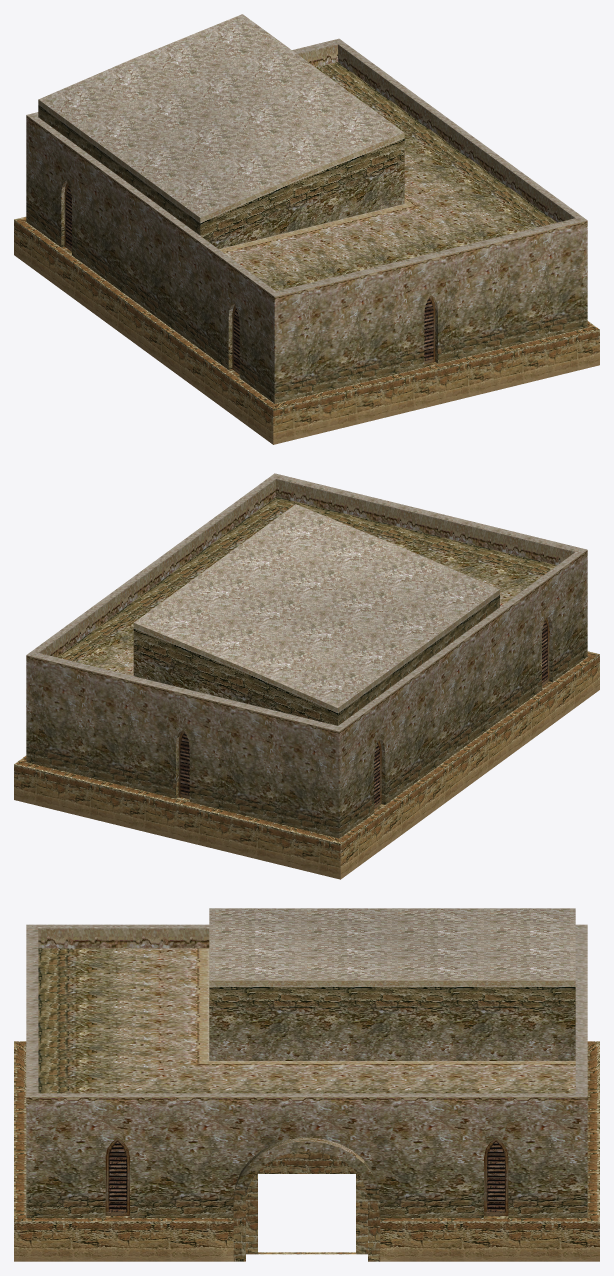
The model's file is M1Z1A_Village4_Ext.glb.
The picture shows the model from 3 angles, top to bottom: view 1: azimuth 30°, elevation 25°; view 2: azimuth 150°, elevation 25°; view 3: azimuth 270°, elevation 25°; orthographic projection. The views are drawn at different scales.
Visible parts, largest first — view 1: M1Z1A_VILLAGE4_EXT; view 2: M1Z1A_VILLAGE4_EXT; view 3: M1Z1A_VILLAGE4_EXT.
Boxes of the visible parts, x1,y1,x2,y2 form: M1Z1A_VILLAGE4_EXT: (14, 14, 599, 444); M1Z1A_VILLAGE4_EXT: (14, 473, 599, 879); M1Z1A_VILLAGE4_EXT: (14, 908, 599, 1261).
Size of the model in its own units: 9.6 by 5.5 by 13.2.
5 materials, 5 textured.
